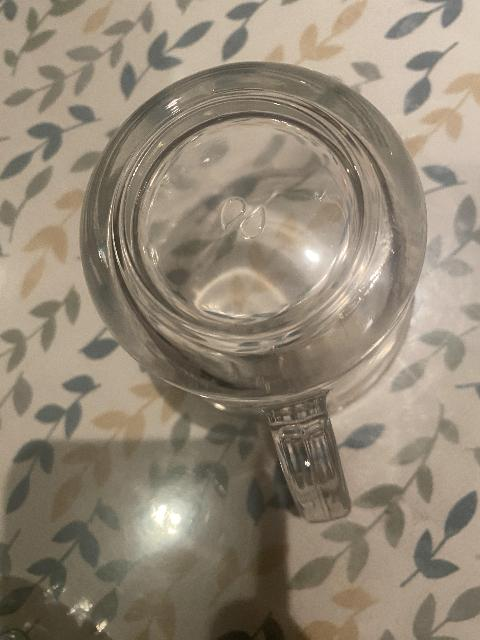Cam: (71, 71, 430, 527)
